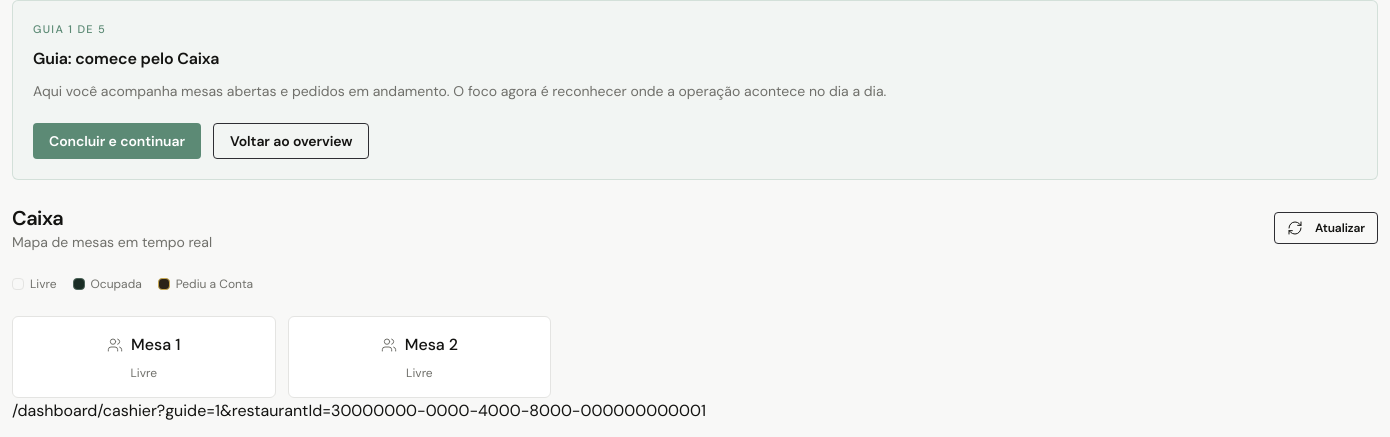
the guide waits for server confirmation before navigating and retains the restaurant in its links
This screenshot has width=1390, height=437.
Later steps or results of the test are not shown.
Click the button "Concluir e continuar" at (117, 141), box [33,123,201,159]
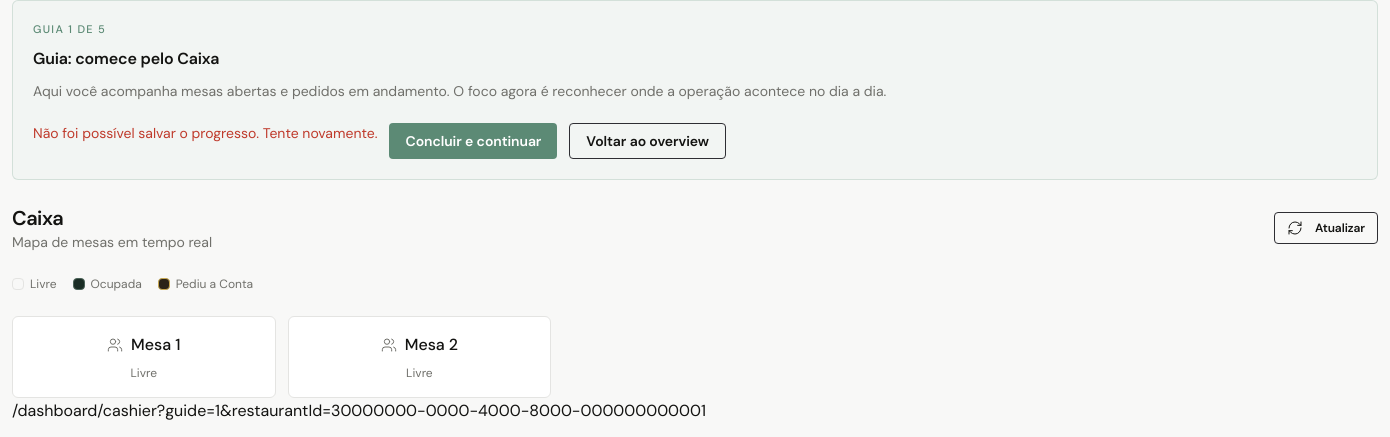
Expected: the text named "Endereço" shows "/dashboard/cashier?", [12,400,706,421]
Now the message shows "salvar", box [33,124,378,142]
